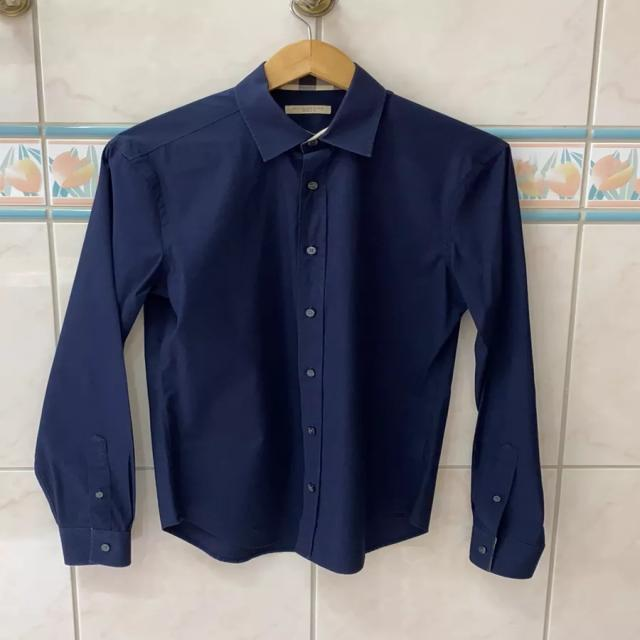long sleeve shirt: (30, 61, 549, 581)
